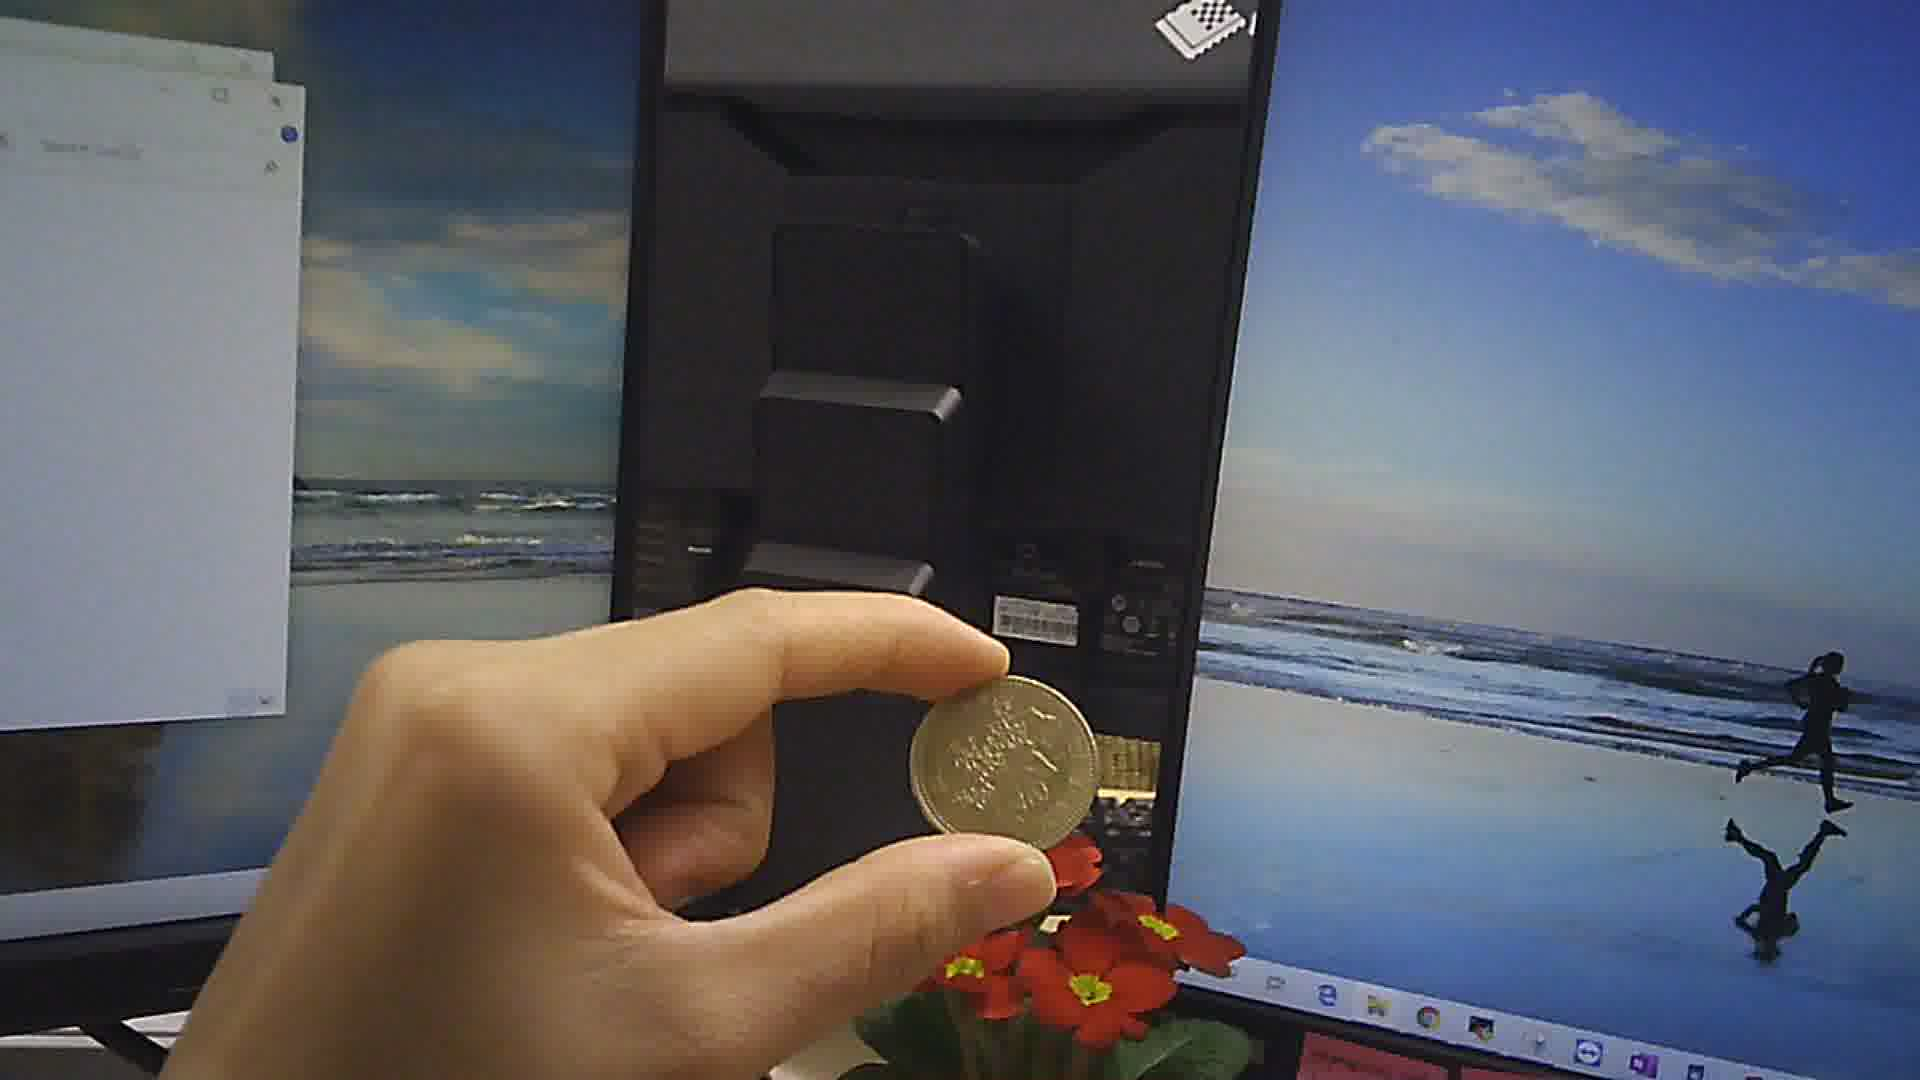500 Yen: (905, 655, 1105, 853)
